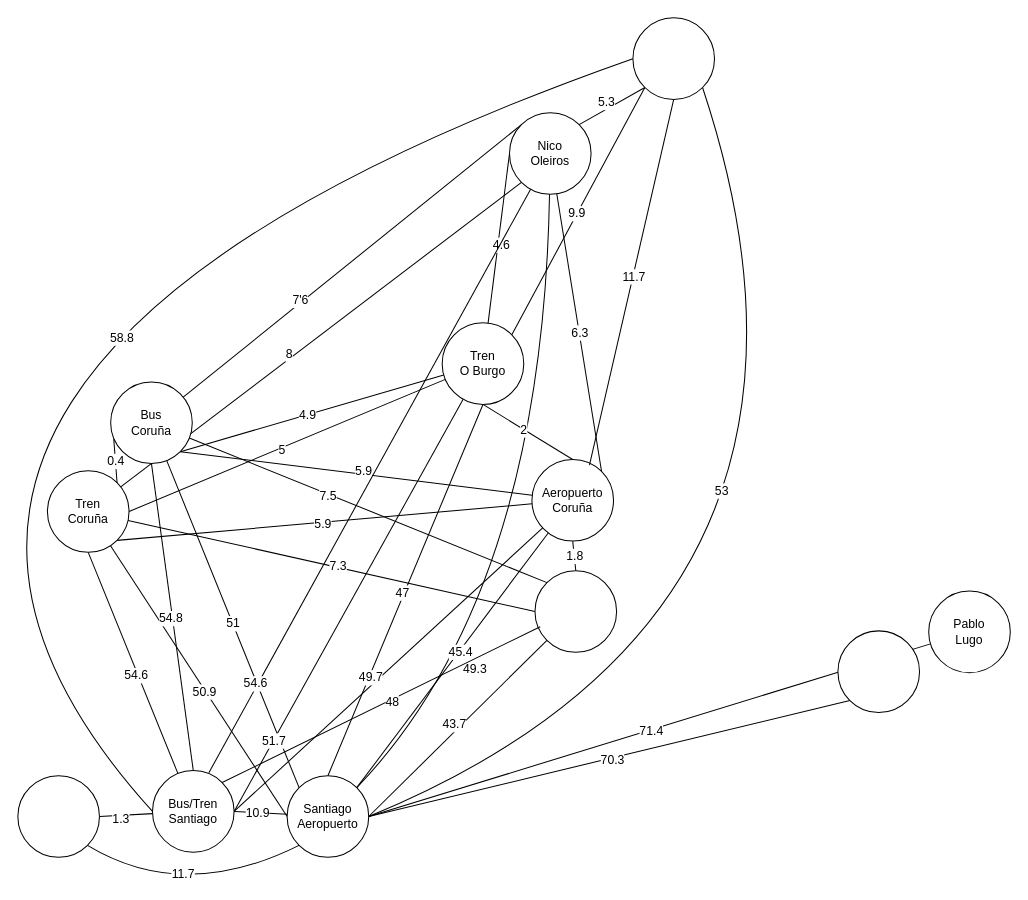
This 1028x900 diagram has some shape labels left out. The shapes that lost their labels are listed below. From the top down, each one's centre as x and y in pixels, then its label:
point (673, 58): Inés Sada
point (575, 611): Rober Culleredo
point (878, 671): Bus Lugo
point (58, 816): Elena Santiago
